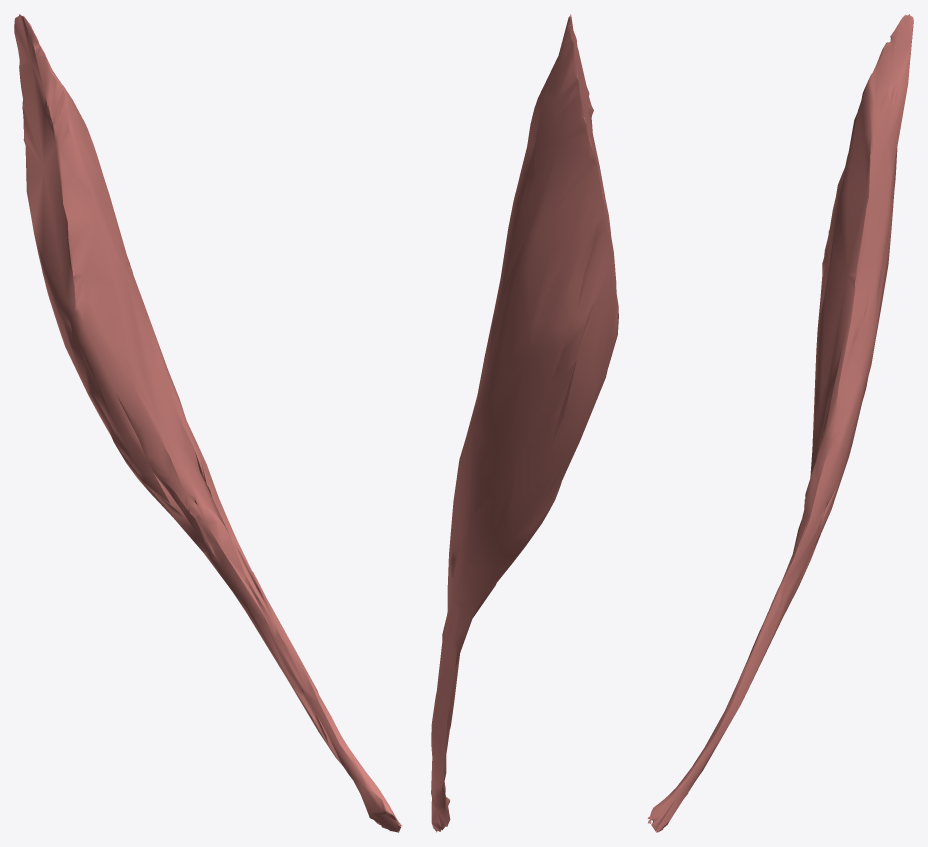
Rendered from fma38517_fj1484m.glb.
The picture shows the model from 3 angles, left to right: view 1: azimuth 30°, elevation 25°; view 2: azimuth 150°, elevation 25°; view 3: azimuth 270°, elevation 25°; orthographic projection. The views are drawn at different scales.
Visible parts, largest first — view 1: FMA38517_FJ1484M; view 2: FMA38517_FJ1484M; view 3: FMA38517_FJ1484M.
Boxes of the visible parts, left/top/right/bottom form: FMA38517_FJ1484M: left=14, top=14, right=402, bottom=832; FMA38517_FJ1484M: left=431, top=14, right=618, bottom=832; FMA38517_FJ1484M: left=647, top=14, right=913, bottom=832.
Size of the model in its own units: 0.0619 by 0.182 by 0.0617.
